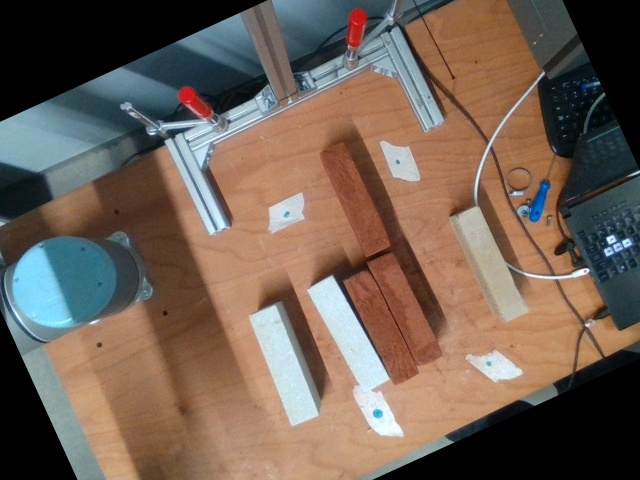brick-side: (308, 277, 389, 392), (368, 250, 442, 369), (317, 141, 391, 259), (454, 206, 528, 324), (345, 269, 418, 386), (249, 305, 320, 424)
